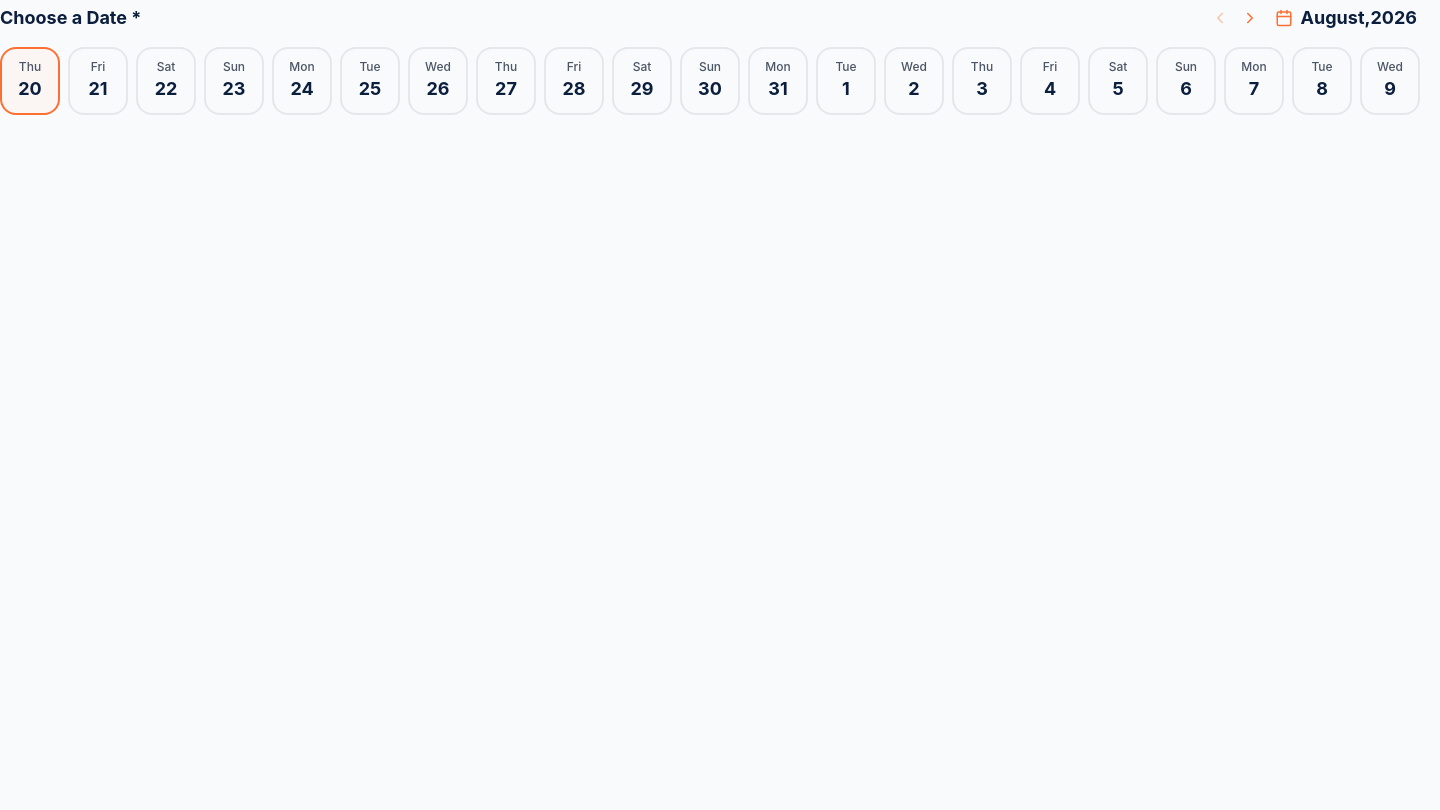
Scenario: CheckoutDatePicker › renders calendar navigation and opens a month grid picker
The width and height of the screenshot is (1440, 810).
Check: the button named "Show previous dates" is shown, box [1207,4,1233,30]
Check: the button named "Show next dates" is shown, box [1237,4,1263,30]
Click the button with aria-label "Open calendar" at (1346, 18), box [1267,0,1425,35]
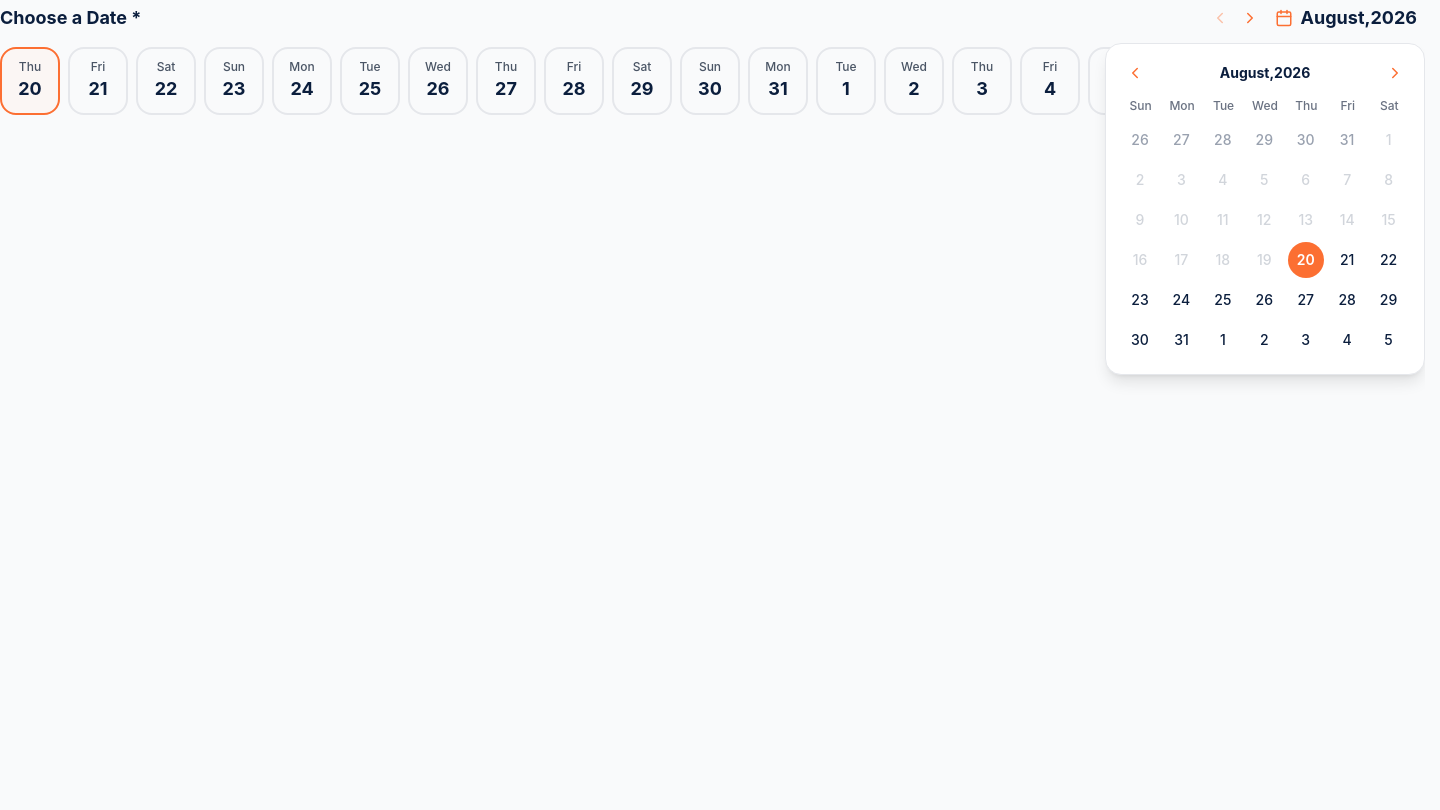
Check: the dialog named "Open calendar" is shown, box [1105,43,1425,375]
Check: the button named "Previous month" is shown, box [1122,60,1148,86]
Check: the button named "Next month" is shown, box [1382,60,1408,86]
